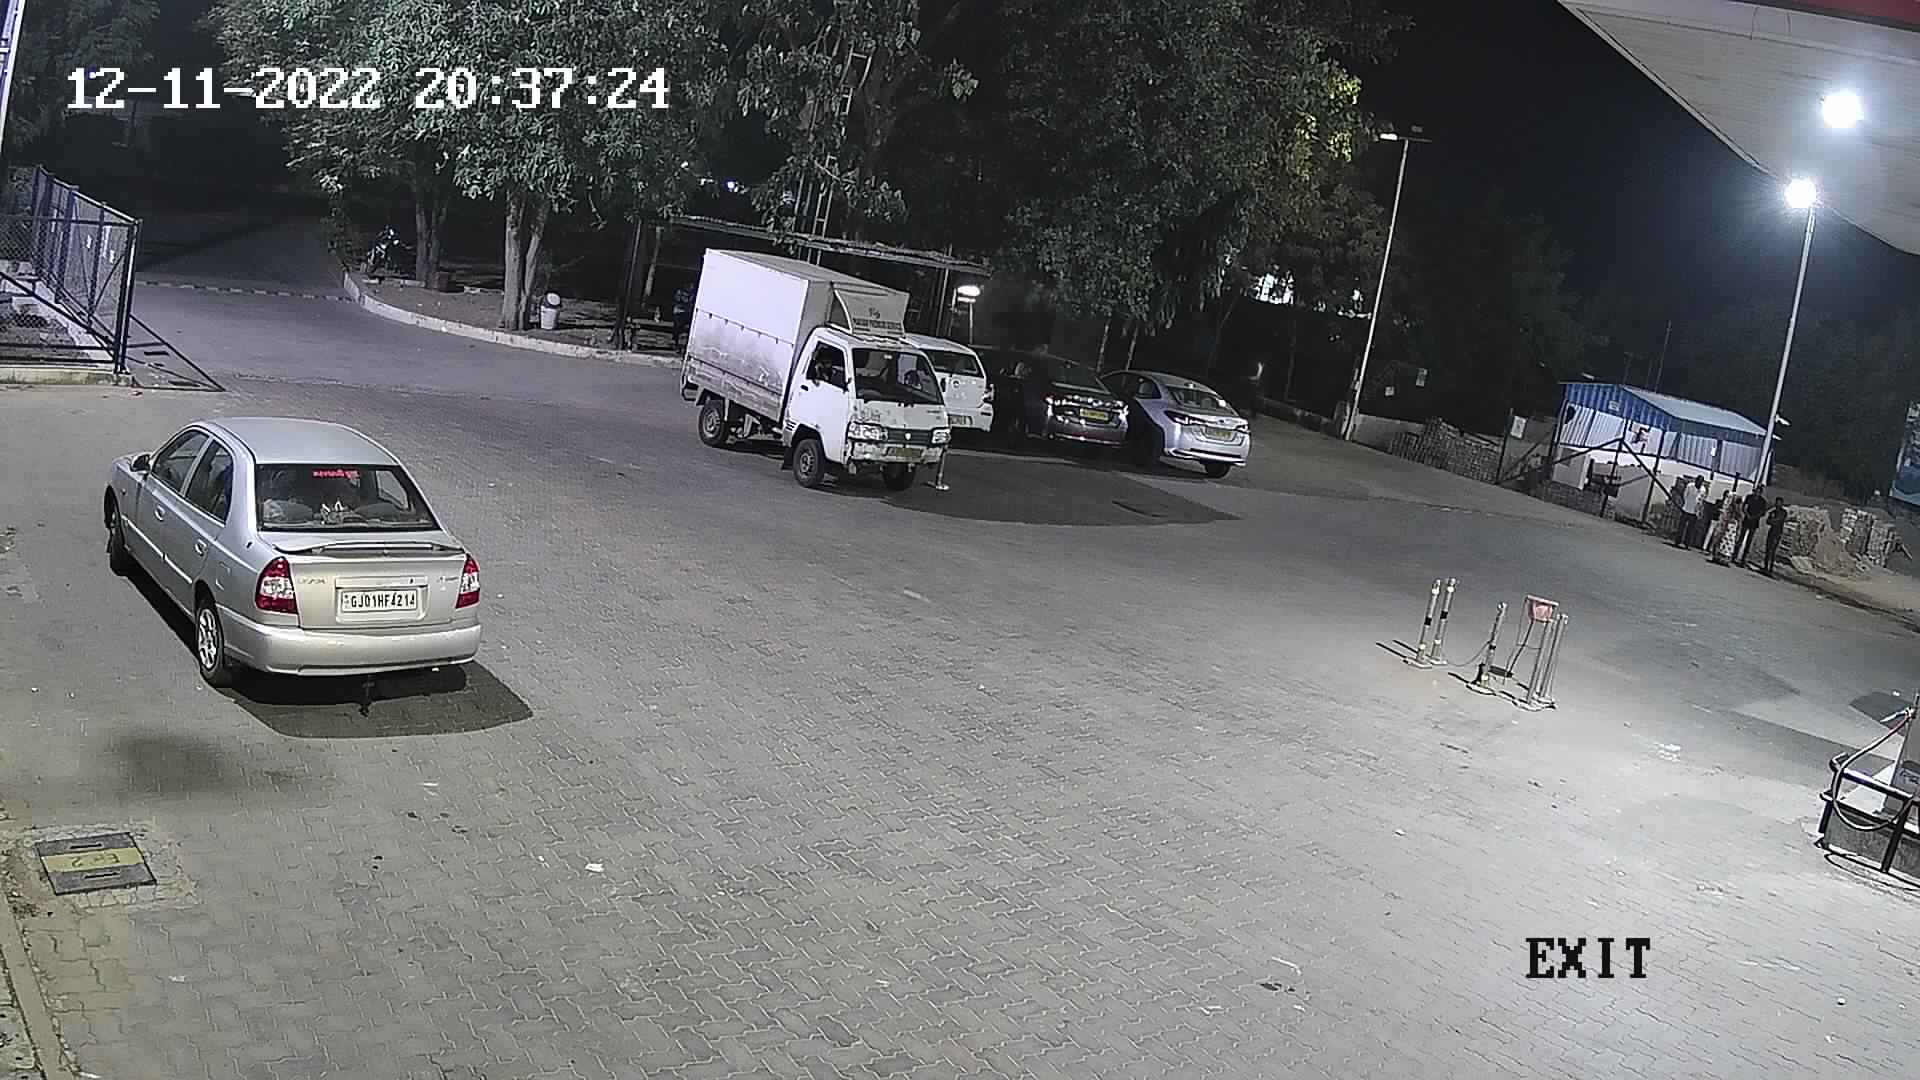Bike: (353, 210, 419, 285)
Car: (91, 396, 488, 699), (955, 330, 1139, 464), (1092, 351, 1262, 488), (893, 320, 1010, 452)
HMV: (670, 237, 967, 509)
